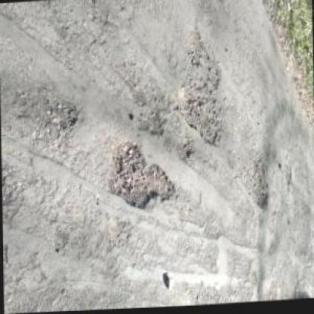Hueco: (105, 137, 176, 216), (178, 78, 227, 153), (16, 87, 78, 133), (184, 24, 221, 92), (129, 78, 165, 139), (243, 171, 269, 214), (177, 131, 194, 162)
